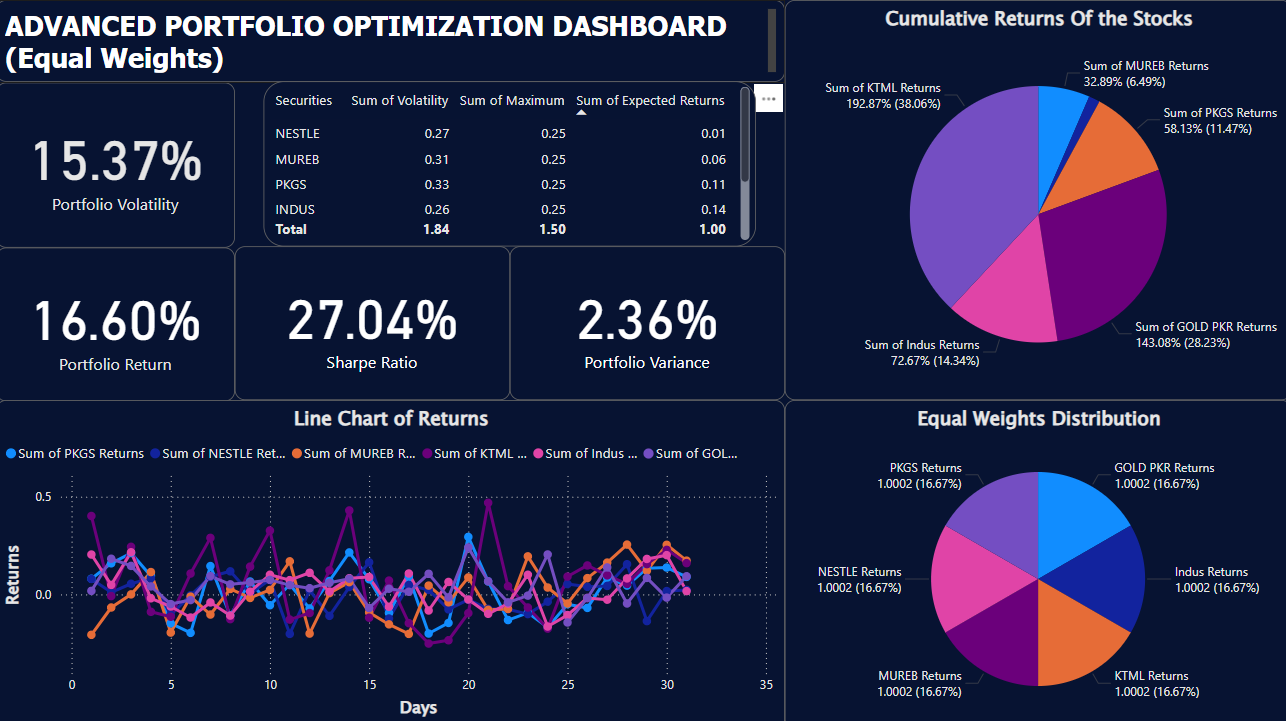

Layout of this report page (visuals, bound fields, positions):
{"tool":"powerbi","page":{"name":"Equal Weights","canvas":[1280,720],"ordinal":0},"visuals":[{"type":"card","title":"EQUAL WEIGHT PORTFOLIO RETURN","fields":{"Values":["Portfolio Equal Weights.Overall Portfolio Return"]},"box":[0,244.3,236,152.3],"z":0},{"type":"card","fields":{"Values":["Daily Covariance.Portfolio Variance"]},"box":[507.7,242.9,271.7,152.3],"z":1000},{"type":"card","fields":{"Values":["Daily Covariance.Portfolio Volatility"]},"box":[0,81,236,163.3],"z":2000},{"type":"card","fields":{"Values":["Daily Covariance.Sharpe Ratio"]},"box":[236,242.9,271.7,152.3],"z":3000},{"type":"textbox","box":[0,0,779.4,81],"z":4000},{"type":"pieChart","title":"Cumulative Returns Of the Stocks ","fields":{"Y":["Sum(FinalData.MUREB Returns)","Sum(FinalData.NESTLE Returns)","Sum(FinalData.PKGS Returns)","Sum(FinalData.GOLD PKR Returns)","Sum(FinalData.Indus Returns)","Sum(FinalData.KTML Returns)"]},"box":[779.4,0,500.9,395.2],"z":5000},{"type":"pieChart","title":"Equal Weights Distribution","fields":{"Y":["Sum(Portfolio Equal Weights.Weights)"],"Category":["Returns Table.Stocks"]},"box":[779.4,395.2,500.9,325.2],"z":6000},{"type":"tableEx","fields":{"Values":["Portfolio Equal Weights.Securities","Sum(Portfolio Equal Weights.Volatility)","Sum(Portfolio Equal Weights.Maximum)","Sum(Portfolio Equal Weights.Expected Returns)"]},"box":[264,80.9,486.4,163],"z":7000},{"type":"lineChart","title":"Line Chart of Returns","fields":{"Y":["Sum(FinalData.PKGS Returns)","Sum(FinalData.NESTLE Returns)","Sum(FinalData.MUREB Returns)","Sum(FinalData.KTML Returns)","Sum(FinalData.Indus Returns)","Sum(FinalData.GOLD PKR Returns)"],"Category":["FinalData.Date.Variation.Date Hierarchy.Day"]},"box":[0,395.2,779.4,325.2],"z":8000}]}

Visuals, with their boxes in screenshot pixels (x1, y1, x2, y2), scaled from the page's 1280x720 canvas onto the 1286x721 screenshot:
"EQUAL WEIGHT PORTFOLIO RETURN" card: {"x1": 0, "y1": 245, "x2": 237, "y2": 397}
card - Daily Covariance.Portfolio Variance: {"x1": 510, "y1": 243, "x2": 783, "y2": 396}
card - Daily Covariance.Portfolio Volatility: {"x1": 0, "y1": 81, "x2": 237, "y2": 245}
card - Daily Covariance.Sharpe Ratio: {"x1": 237, "y1": 243, "x2": 510, "y2": 396}
textbox: {"x1": 0, "y1": 0, "x2": 783, "y2": 81}
"Cumulative Returns Of the Stocks " pieChart: {"x1": 783, "y1": 0, "x2": 1285, "y2": 396}
"Equal Weights Distribution" pieChart: {"x1": 783, "y1": 396, "x2": 1285, "y2": 720}
tableEx - Portfolio Equal Weights.Securities x Sum(Portfolio Equal Weights.Volatility): {"x1": 265, "y1": 81, "x2": 754, "y2": 244}
"Line Chart of Returns" lineChart: {"x1": 0, "y1": 396, "x2": 783, "y2": 720}
